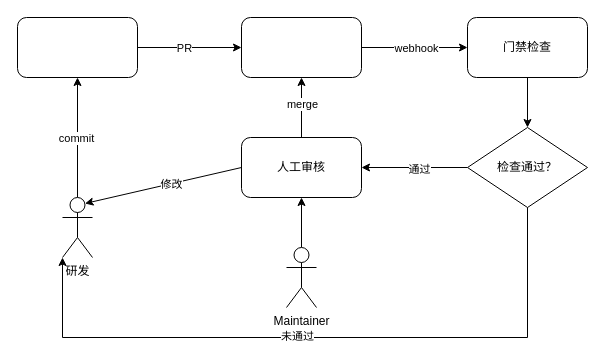
The diagram is 605 pixels wide and 363 high, and some of its shapes have lost their labels. Each missing label, with the centre of its shape:
Kylinos-Src: (301,47)
个人仓库: (77,47)
